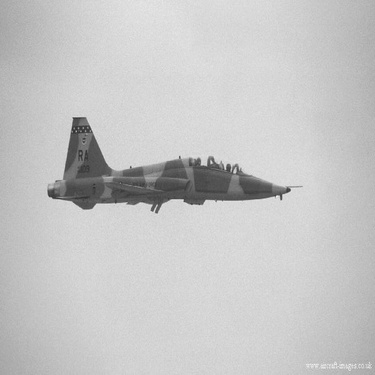airplane: (44, 114, 305, 214)
